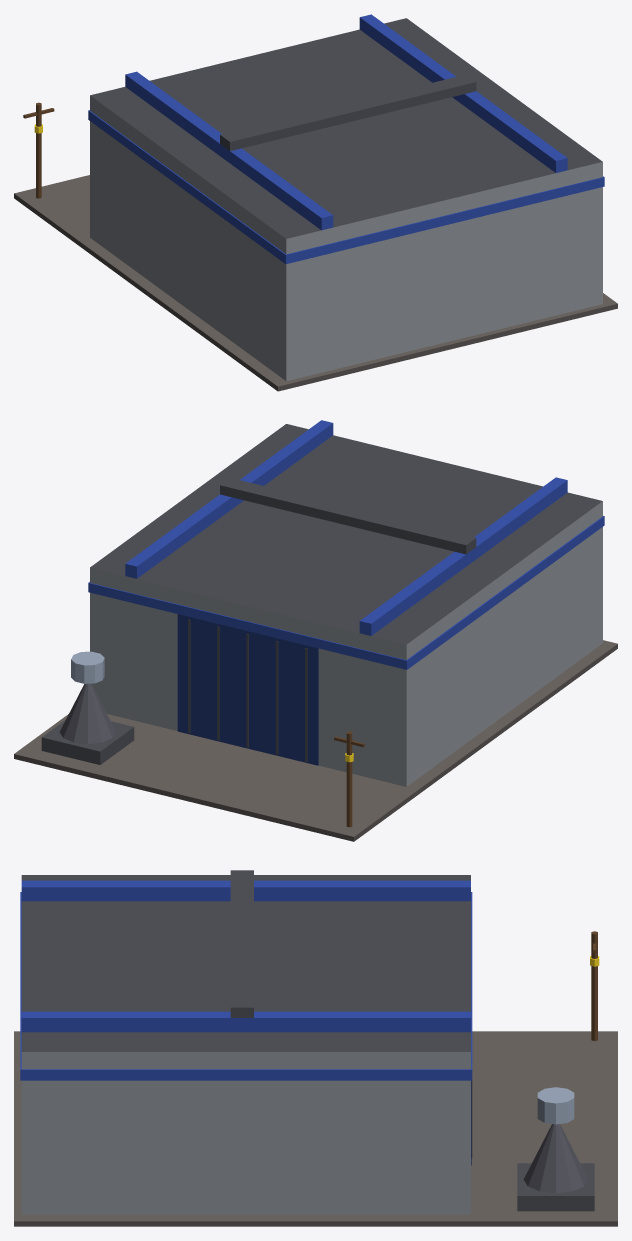
File: assembly_plant.obj
The picture shows the model from 3 angles, top to bottom: view 1: azimuth 30°, elevation 25°; view 2: azimuth 150°, elevation 25°; view 3: azimuth 270°, elevation 25°; orthographic projection. The views are drawn at different scales.
Size of the model in its own units: 5.8 by 2.75 by 7.8.
